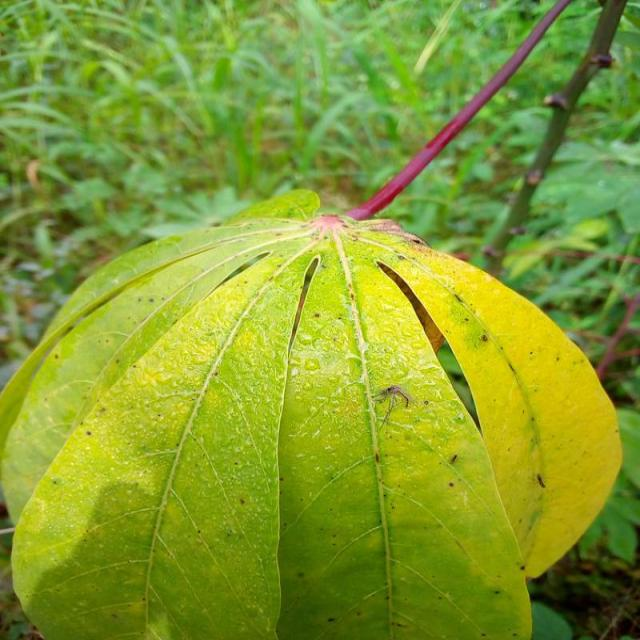cassava leaf: (1, 187, 623, 638)
